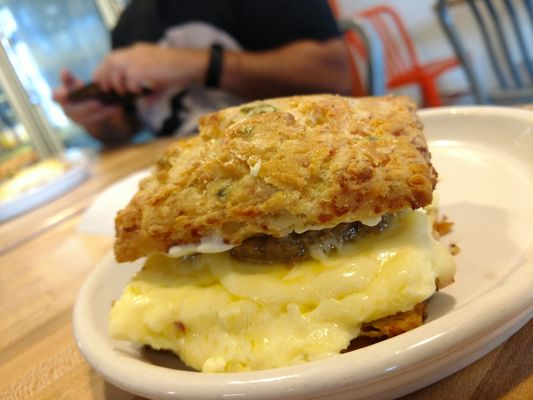soup: (103, 91, 455, 373)
